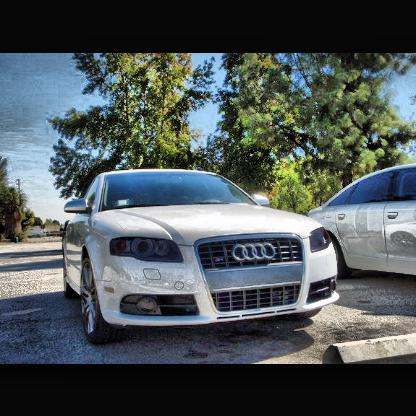Audi S4 Sedan 2007: (63, 170, 342, 337)
